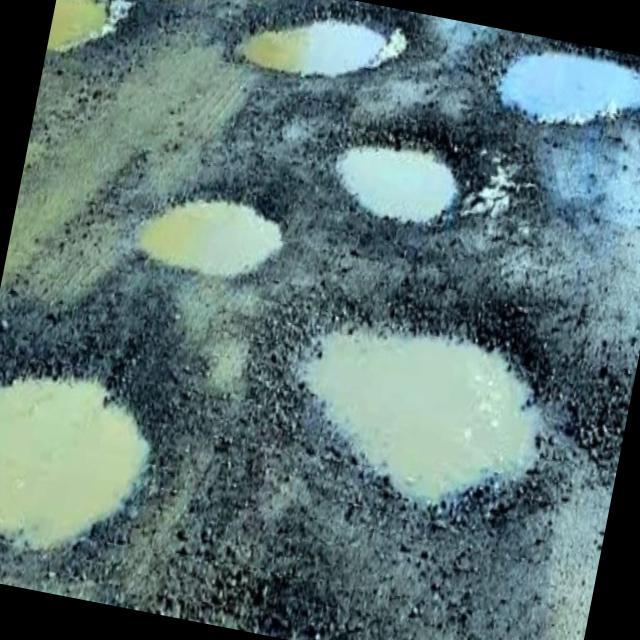Pothole: (265, 278, 594, 540), (0, 322, 171, 575), (313, 108, 525, 251), (118, 166, 310, 283), (229, 0, 416, 100), (482, 29, 640, 145), (45, 0, 135, 71), (119, 0, 244, 17)
